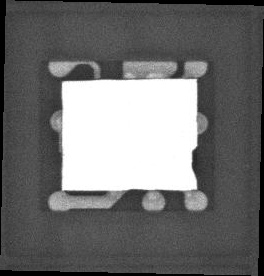DIE_BROKEN: (190, 144, 197, 177)
